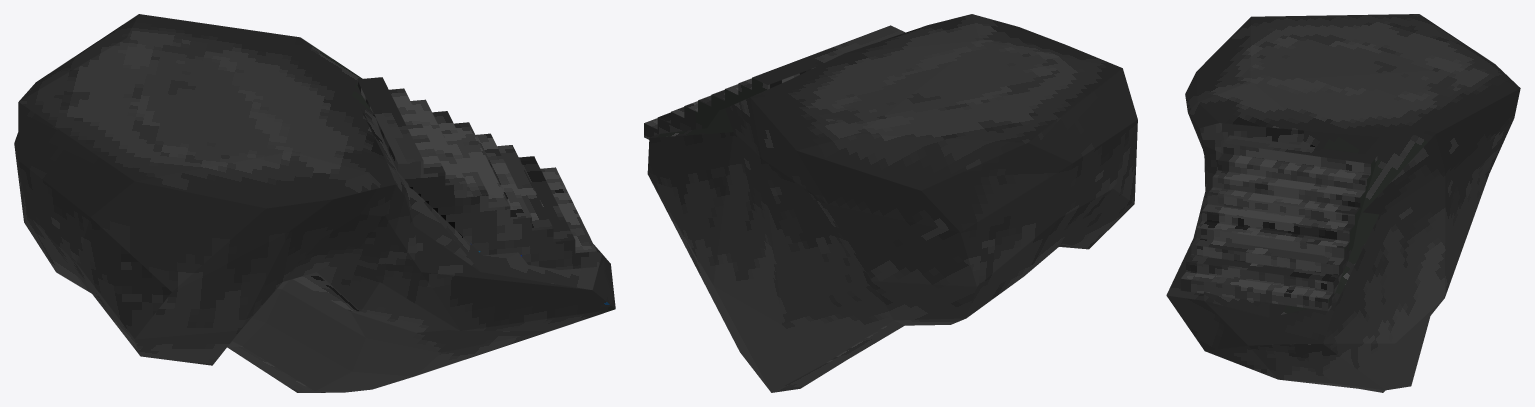
Rendered from PortalPlatform.glb.
3 renders of one model, left to right at view 1: azimuth 30°, elevation 25°; view 2: azimuth 150°, elevation 25°; view 3: azimuth 270°, elevation 25°, orthographic. The views are drawn at different scales.
Visible parts, largest first — view 1: portal plataform-col; view 2: portal plataform-col; view 3: portal plataform-col.
Part boxes in pixels (left/top/right/bottom): portal plataform-col: left=14, top=14, right=615, bottom=392; portal plataform-col: left=644, top=14, right=1137, bottom=392; portal plataform-col: left=1166, top=14, right=1520, bottom=392.
Size of the model in its own units: 23.15 by 15.17 by 18.24.
Materials: 1 (1 with a texture image).
